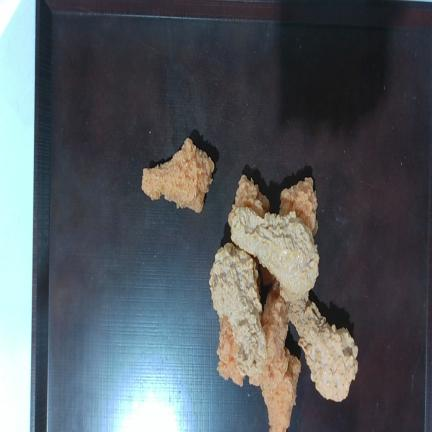chicken: (231, 208, 319, 301), (209, 243, 267, 376), (290, 300, 358, 401), (142, 138, 214, 212), (262, 349, 300, 431), (280, 178, 317, 236)
